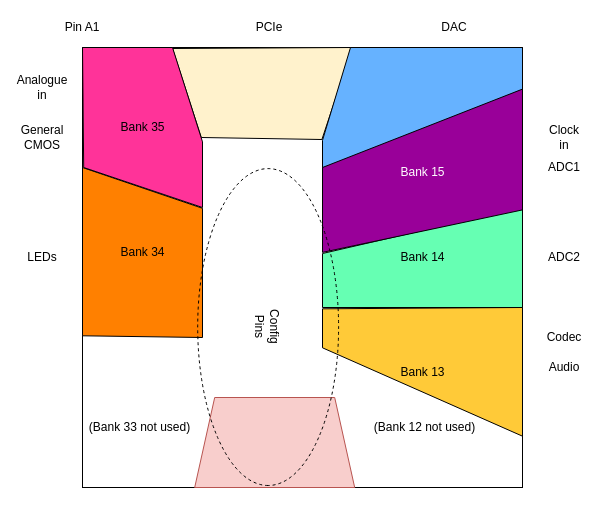
Some shapes in this 602 by 505 pixel diagram are drawn without their labels. The centre of each missing label's shape, as x and y in pixels:
"Bank 16 LVDS and 1.8V logic only" belongs at point (422, 127).
"Bank 213 (not used)" belongs at point (274, 442).
"Bank 216 PCIe" belongs at point (262, 97).
